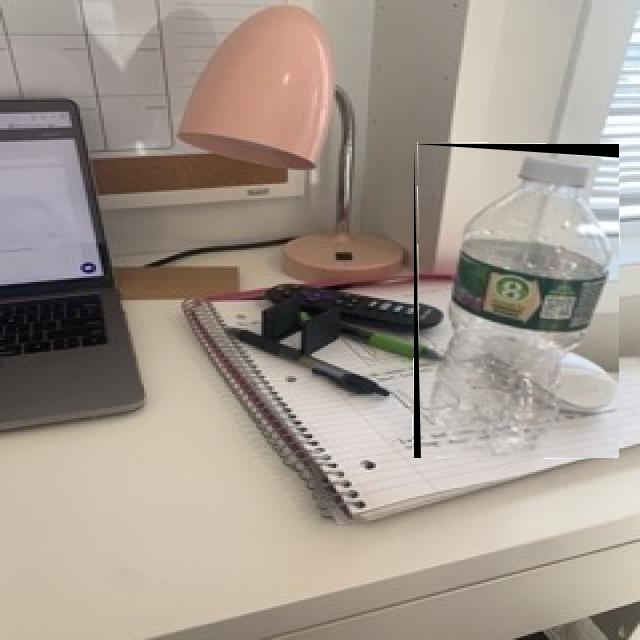water_bottle: (414, 144, 619, 458)
